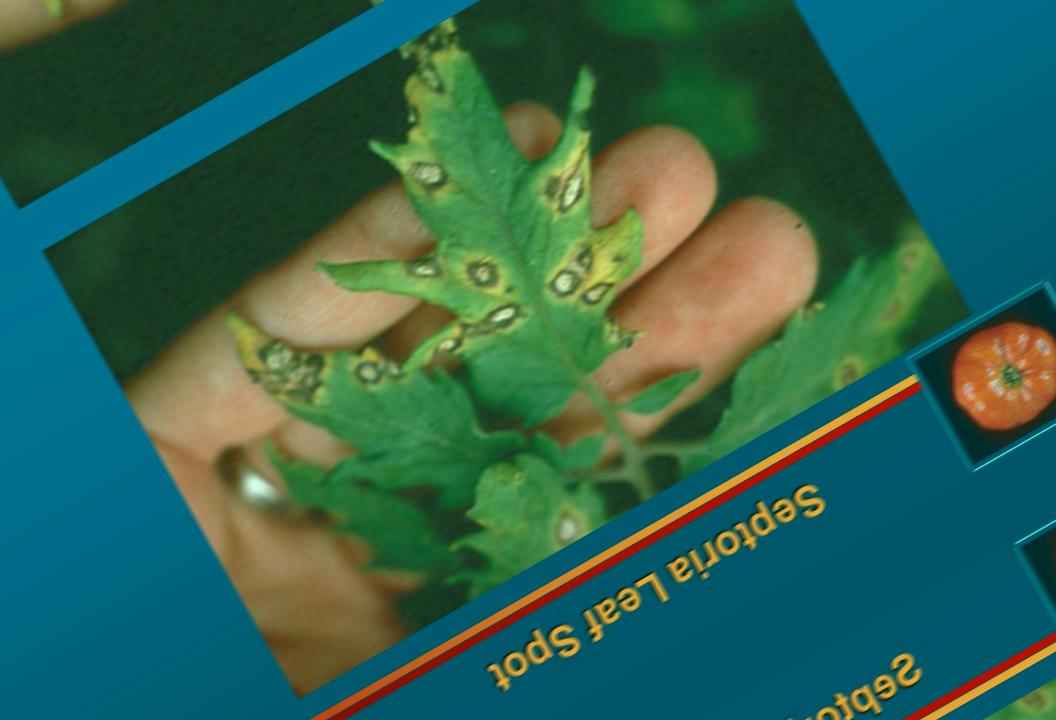Tomato Septoria leaf spot: (268, 0, 732, 462), (205, 227, 526, 582), (595, 214, 965, 495)
